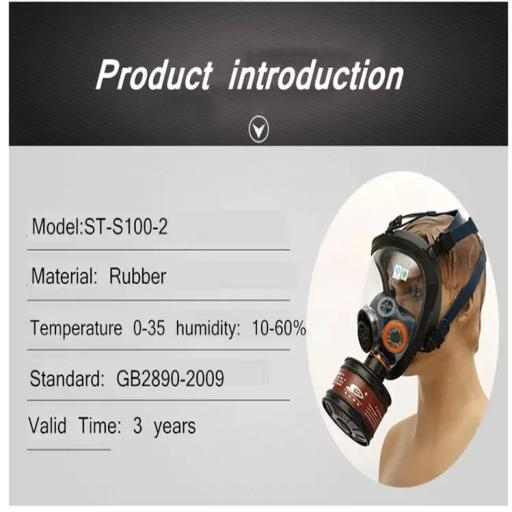mask: (322, 218, 461, 444)
